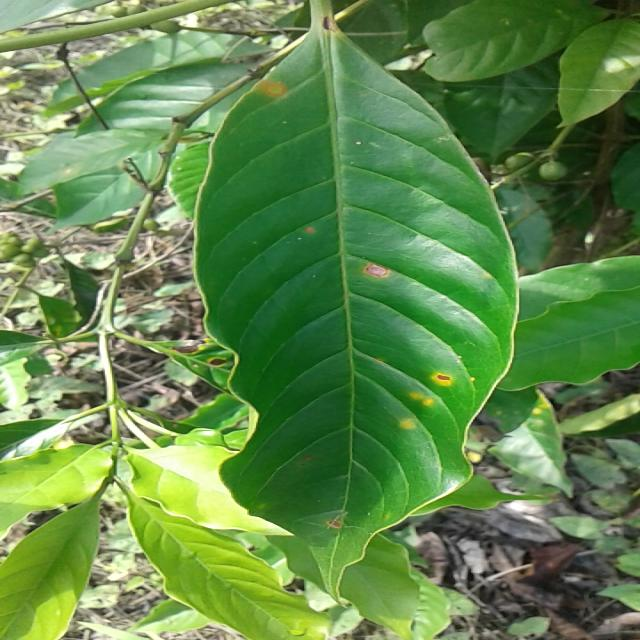Enfermedad-Roya: (171, 28, 521, 582)
